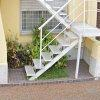stairs: (23, 27, 81, 80)
